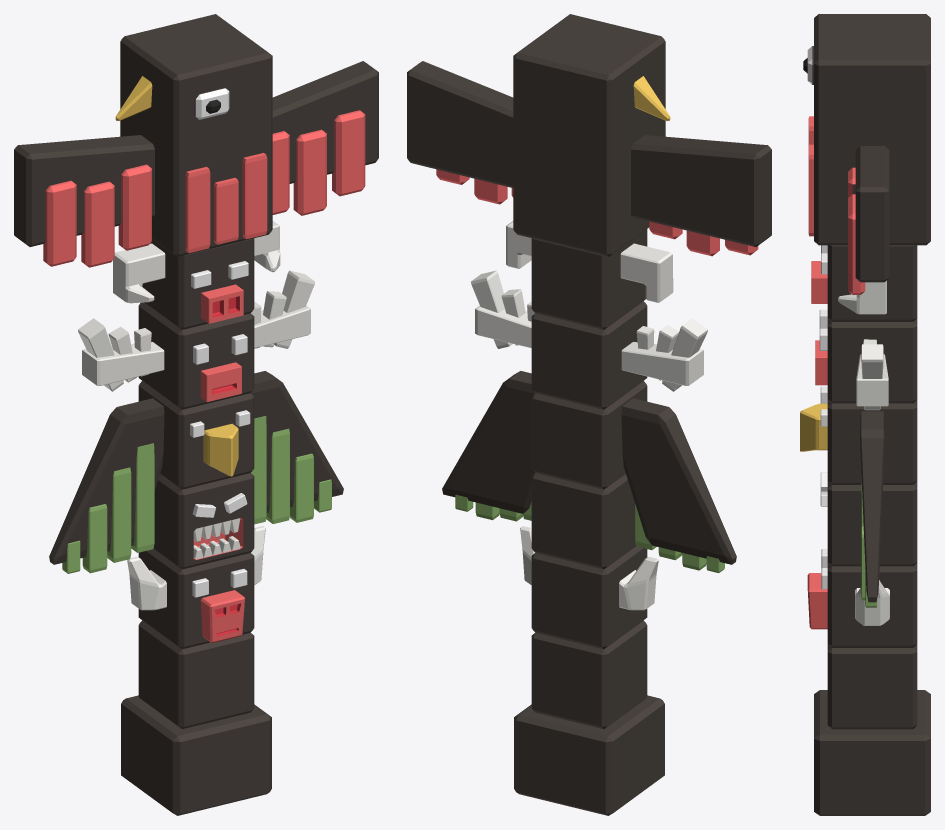
File: Totem.glb
3 renders of one model, left to right at view 1: azimuth 30°, elevation 25°; view 2: azimuth 150°, elevation 25°; view 3: azimuth 270°, elevation 25°, orthographic. The views are drawn at different scales.
Parts seen in each view (by area): view 1: uccello, aquila, cervo, vuoto.001, bove, strambo, vuoto, demone; view 2: uccello, aquila, cervo, vuoto.001, bove, strambo, vuoto, demone; view 3: uccello, vuoto.001, aquila, cervo, strambo, vuoto, demone, bove.
Boxes of the visible parts, x1=… form: uccello: x1=14, y1=14, x2=378, y2=267; aquila: x1=49, y1=371, x2=343, y2=573; cervo: x1=78, y1=270, x2=314, y2=409; vuoto.001: x1=121, y1=695, x2=271, y2=815; bove: x1=113, y1=221, x2=280, y2=329; strambo: x1=127, y1=526, x2=265, y2=649; vuoto: x1=138, y1=620, x2=254, y2=728; demone: x1=153, y1=473, x2=254, y2=569; uccello: x1=407, y1=14, x2=771, y2=256; aquila: x1=442, y1=371, x2=736, y2=572; cervo: x1=471, y1=270, x2=707, y2=409; vuoto.001: x1=514, y1=695, x2=664, y2=815; bove: x1=506, y1=221, x2=673, y2=329; strambo: x1=520, y1=526, x2=658, y2=649; vuoto: x1=531, y1=620, x2=647, y2=728; demone: x1=531, y1=473, x2=635, y2=569; uccello: x1=803, y1=14, x2=930, y2=294; vuoto.001: x1=814, y1=690, x2=930, y2=815; aquila: x1=800, y1=386, x2=917, y2=607; cervo: x1=815, y1=309, x2=917, y2=410; strambo: x1=807, y1=549, x2=917, y2=647; vuoto: x1=827, y1=644, x2=917, y2=729; demone: x1=820, y1=472, x2=917, y2=566; bove: x1=811, y1=245, x2=917, y2=321.
Bounding box in the file's own units: 9.25 × 18.58 × 2.91.
7 materials, 7 textured.
